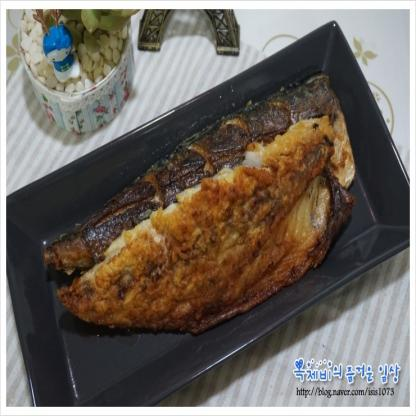Peixe: (26, 75, 361, 372)
